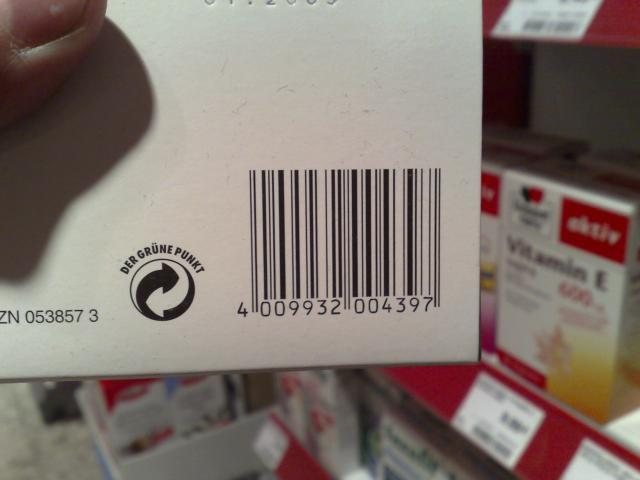Barcode: (225, 157, 462, 327)
